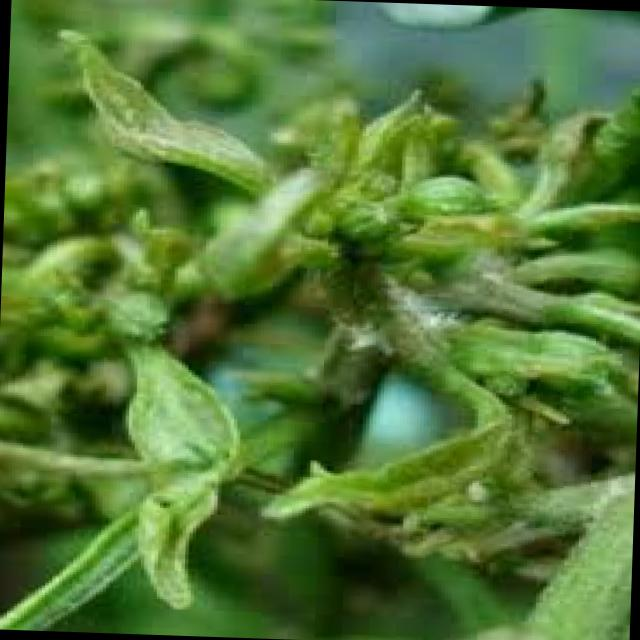Chilli_Leaf_Curl: (0, 20, 640, 640), (45, 24, 281, 200)
